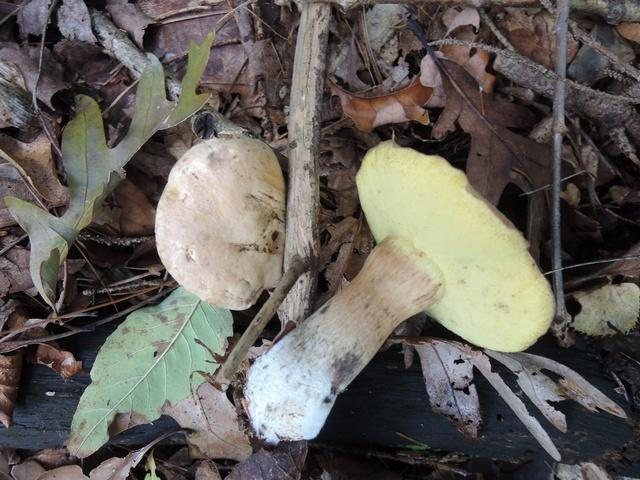edible_mushroom: (240, 136, 556, 446), (153, 131, 287, 311)
